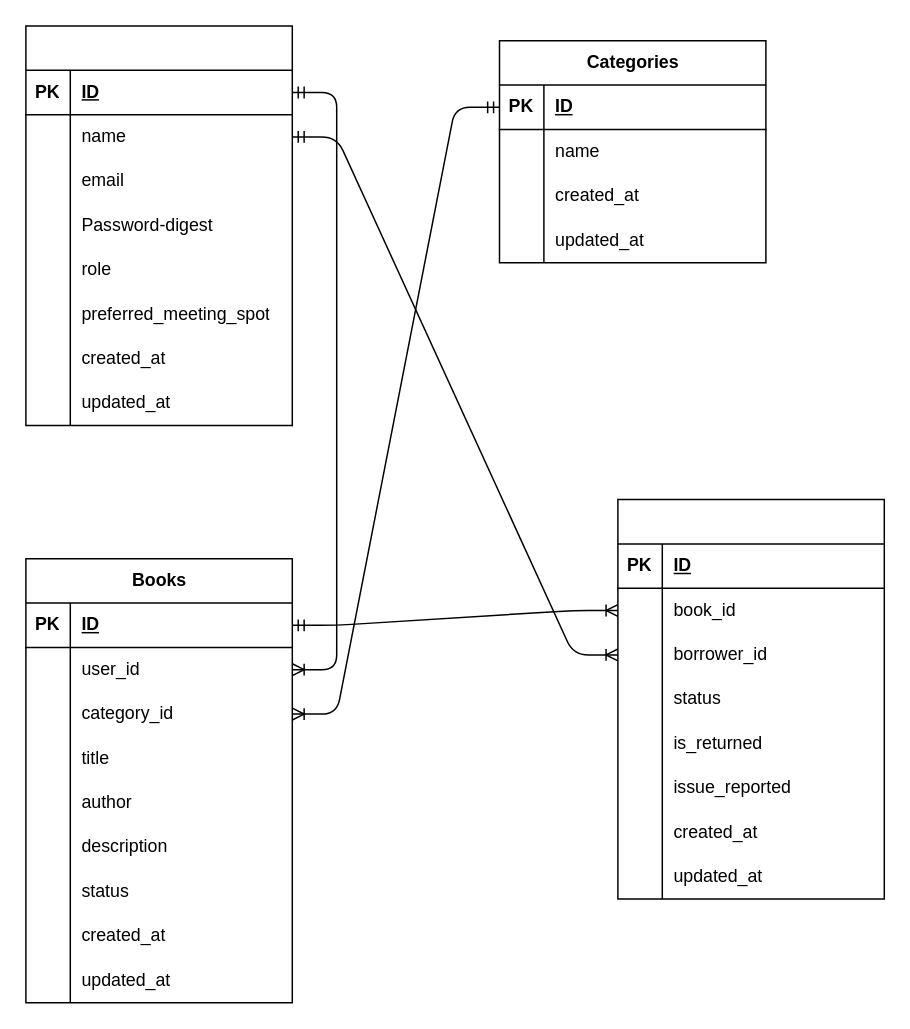
Image size: 910x1029. Some labels were removed from this diagram. The shapes that lost their labels are listed below. From the top down, each one's box as (x1, y1, x2, y2) in pixels, then its label:
(24, 24, 292, 426): User
(616, 498, 884, 899): Borrow_requests
